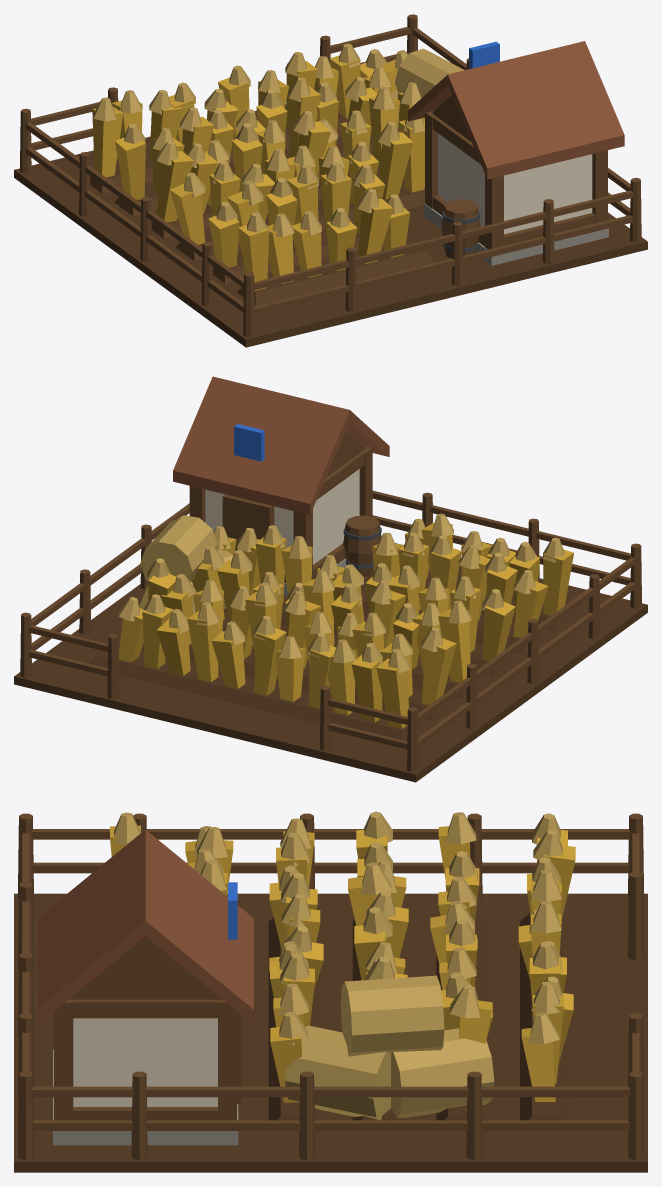
The model's file is Farm.obj.
3 renders of one model, top to bottom at view 1: azimuth 30°, elevation 25°; view 2: azimuth 150°, elevation 25°; view 3: azimuth 270°, elevation 25°, orthographic. The views are drawn at different scales.
Parts seen in each view (by area): view 1: Farm_wheat, Farm_soil, Farm_timber, Farm_straw, Farm_roof_cedar, Farm_plaster, Farm_stone, Farm_banner_team; view 2: Farm_wheat, Farm_soil, Farm_timber, Farm_straw, Farm_roof_cedar, Farm_plaster, Farm_banner_team; view 3: Farm_soil, Farm_timber, Farm_straw, Farm_roof_cedar, Farm_wheat, Farm_plaster, Farm_stone, Farm_banner_team.
Part boxes in pixels (x1=…): Farm_wheat: x1=92, y1=55, x2=424, y2=290; Farm_soil: x1=14, y1=103, x2=647, y2=347; Farm_timber: x1=20, y1=14, x2=641, y2=336; Farm_straw: x1=93, y1=43, x2=464, y2=236; Farm_roof_cedar: x1=408, y1=41, x2=624, y2=179; Farm_plaster: x1=438, y1=133, x2=592, y2=234; Farm_stone: x1=423, y1=203, x2=608, y2=265; Farm_banner_team: x1=469, y1=41, x2=499, y2=68; Farm_wheat: x1=118, y1=523, x2=573, y2=728; Farm_soil: x1=14, y1=543, x2=647, y2=782; Farm_timber: x1=20, y1=431, x2=641, y2=771; Farm_straw: x1=118, y1=513, x2=564, y2=673; Farm_roof_cedar: x1=173, y1=376, x2=389, y2=514; Farm_plaster: x1=205, y1=469, x2=359, y2=564; Farm_banner_team: x1=234, y1=424, x2=264, y2=461; Farm_soil: x1=14, y1=893, x2=647, y2=1172; Farm_timber: x1=18, y1=813, x2=643, y2=1159; Farm_straw: x1=113, y1=811, x2=562, y2=1120; Farm_roof_cedar: x1=37, y1=829, x2=253, y2=1024; Farm_wheat: x1=110, y1=825, x2=575, y2=1102; Farm_plaster: x1=73, y1=1018, x2=217, y2=1106; Farm_stone: x1=53, y1=1049, x2=238, y2=1145; Farm_banner_team: x1=228, y1=882, x2=237, y2=939.
Bounding box in the file's own units: 5.3 × 2.23 × 5.3.
